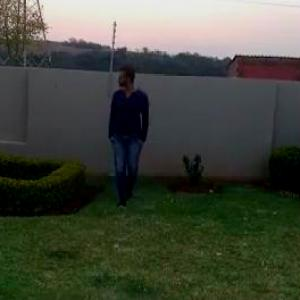follow: (99, 52, 152, 238)
